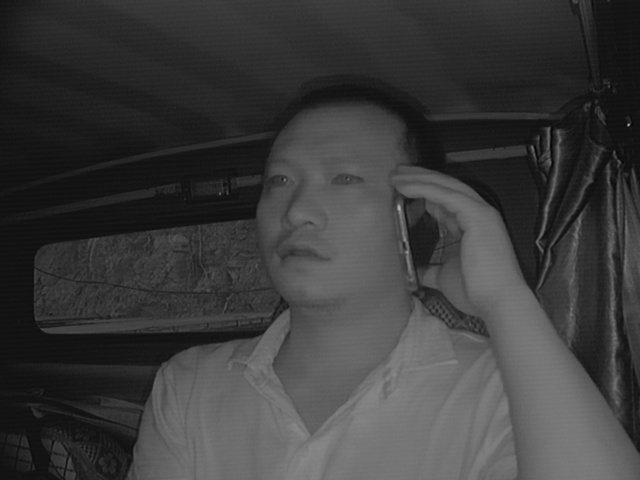hand: (386, 158, 494, 306)
